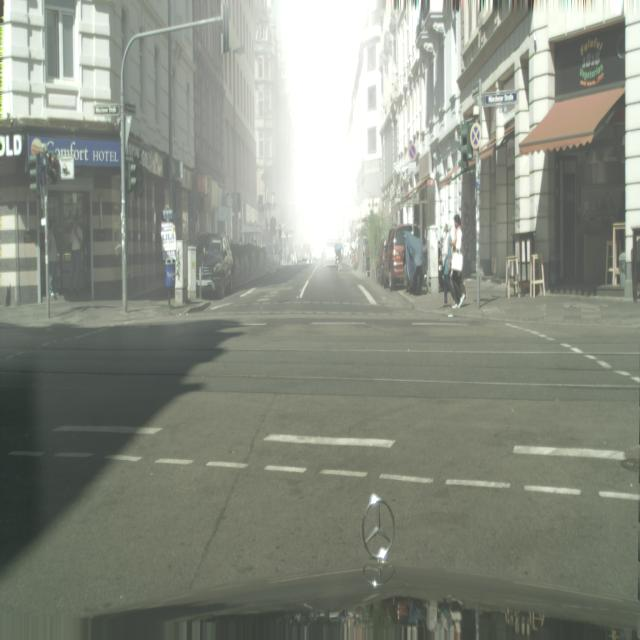person: (449, 213, 467, 309), (439, 216, 455, 309), (47, 218, 63, 304), (70, 216, 83, 292), (333, 237, 344, 272)
truck: (196, 232, 233, 298), (381, 224, 415, 291), (323, 236, 340, 272)
